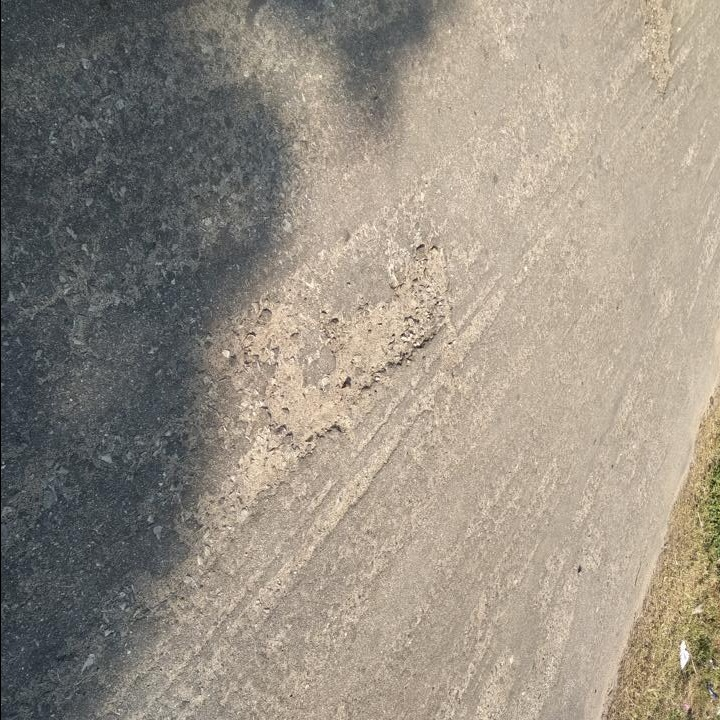pothole: (249, 240, 455, 455)
